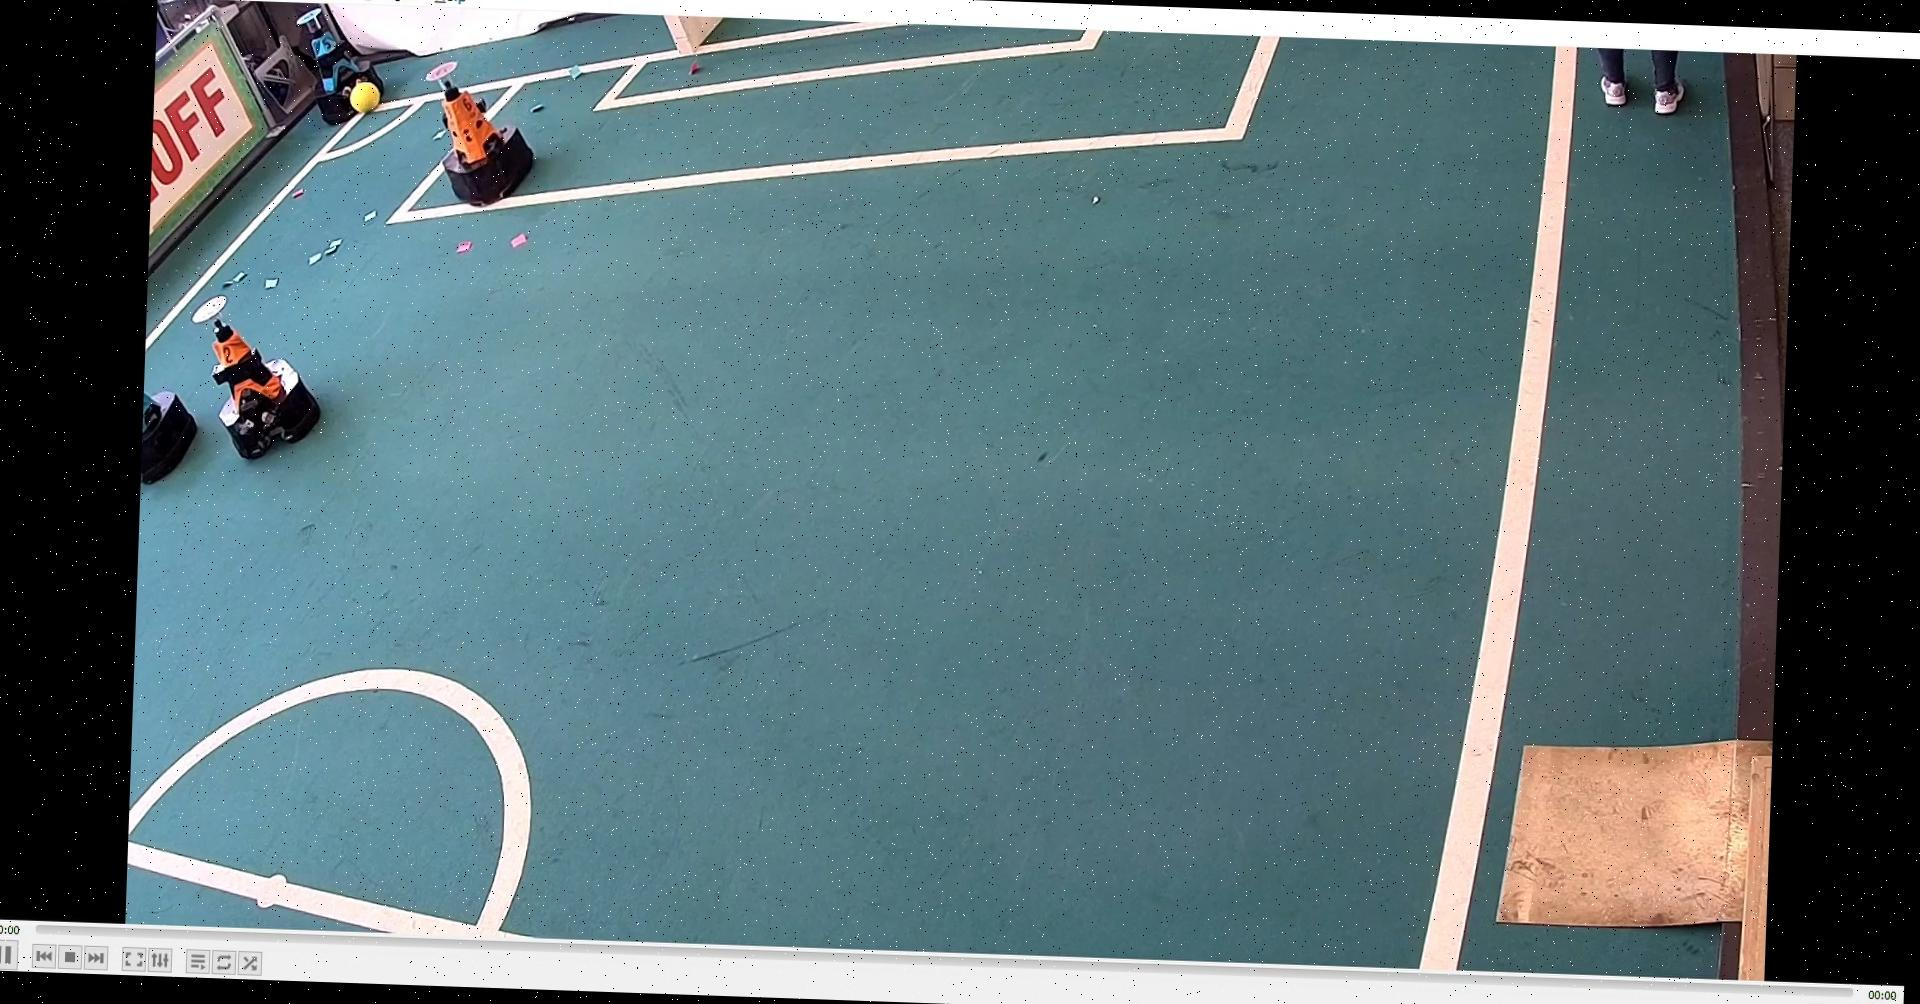Ball: (344, 79, 385, 117)
Team_Blue: (291, 6, 395, 126)
Team_Red: (188, 287, 328, 461), (423, 53, 541, 207)
